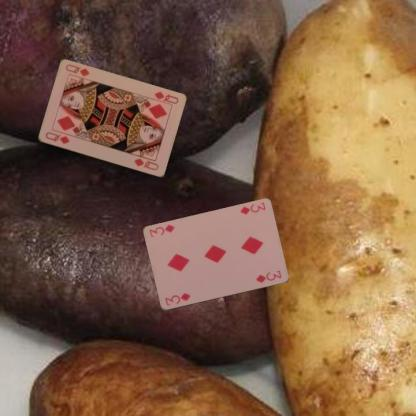3d: (162, 290, 192, 307), (237, 200, 266, 216)
Qd: (148, 89, 180, 107), (43, 130, 70, 146)
